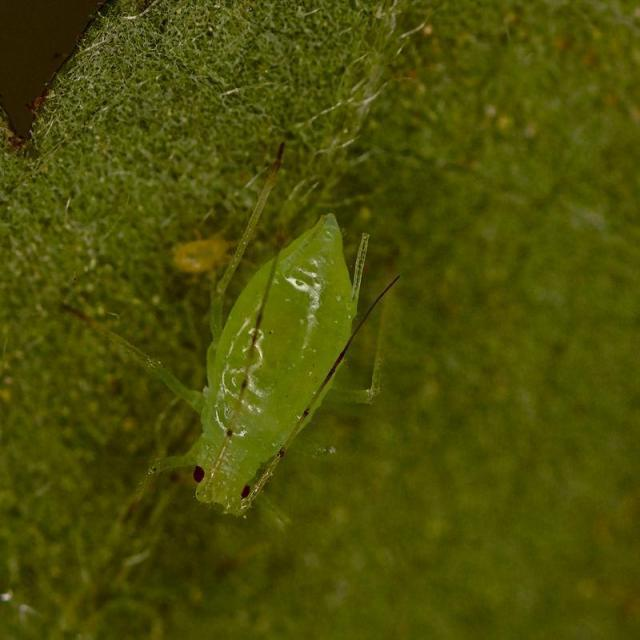aphid: (185, 230, 352, 523)
